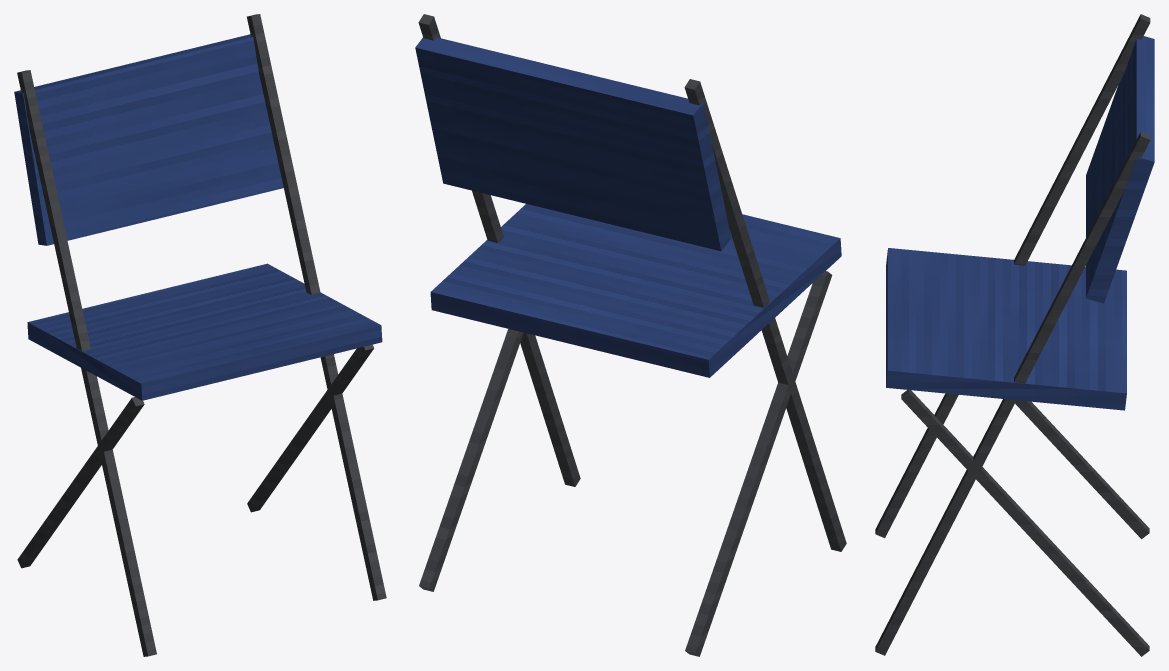
Rendered from cadeira_dobravel.glb.
3 renders of one model, left to right at view 1: azimuth 30°, elevation 25°; view 2: azimuth 150°, elevation 25°; view 3: azimuth 270°, elevation 25°, orthographic. The views are drawn at different scales.
Parts seen in each view (by area): view 1: Inteiro; view 2: Inteiro; view 3: Inteiro.
Boxes of the visible parts, left/top/right/bottom form: Inteiro: left=14, top=14, right=386, bottom=656; Inteiro: left=415, top=14, right=846, bottom=656; Inteiro: left=875, top=14, right=1154, bottom=656.
Bounding box in the file's own units: 0.46 × 0.9091 × 0.4421.
1 material, 1 textured.
